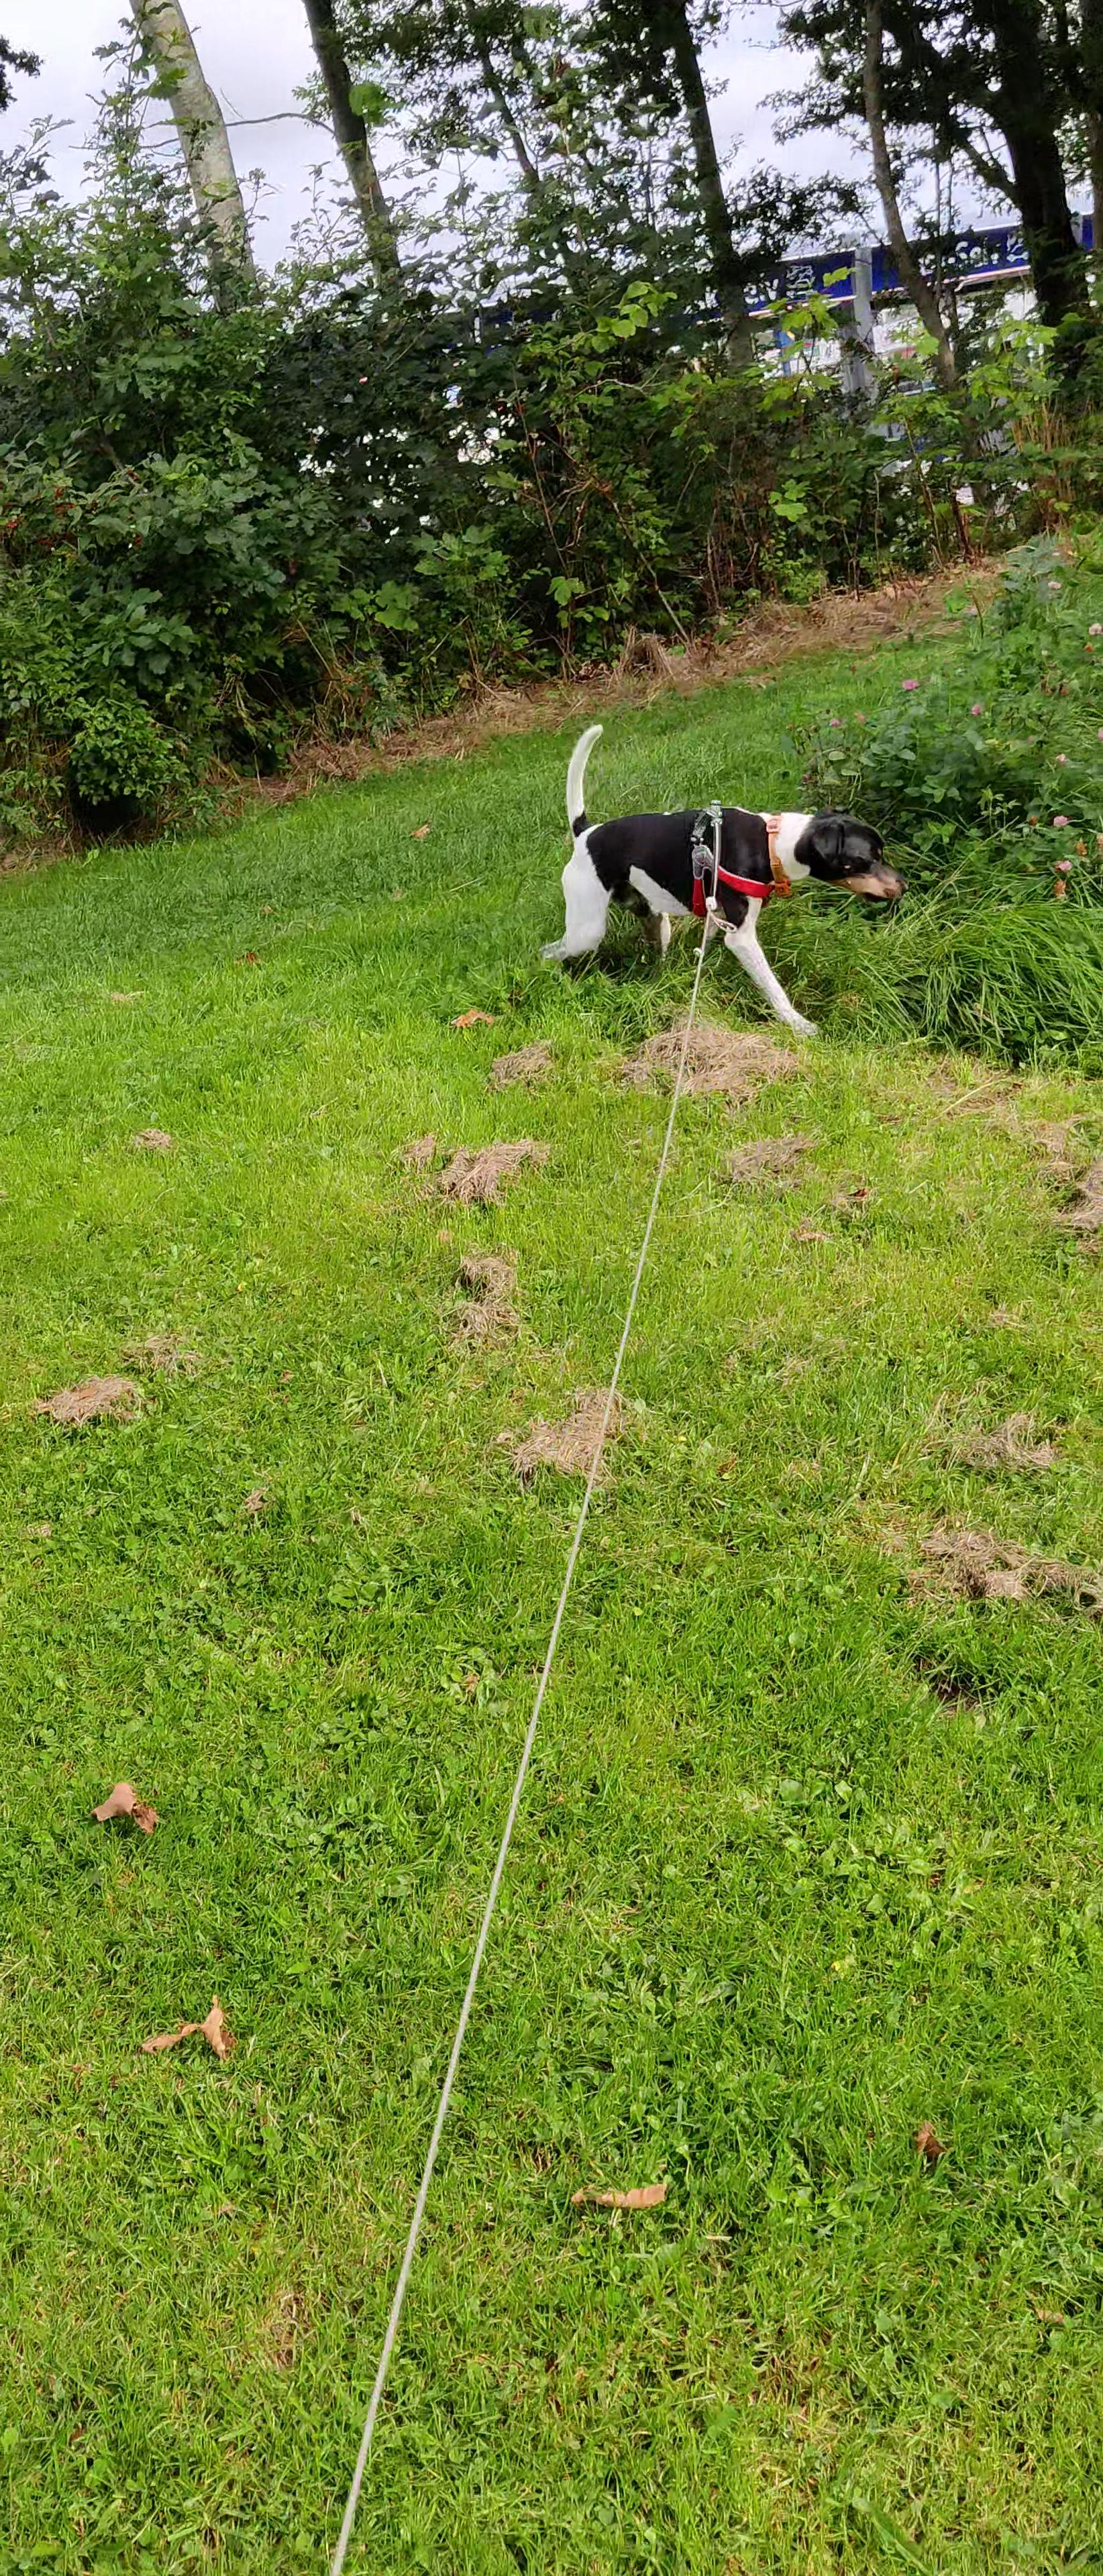Dog: (536, 721, 912, 1038)
